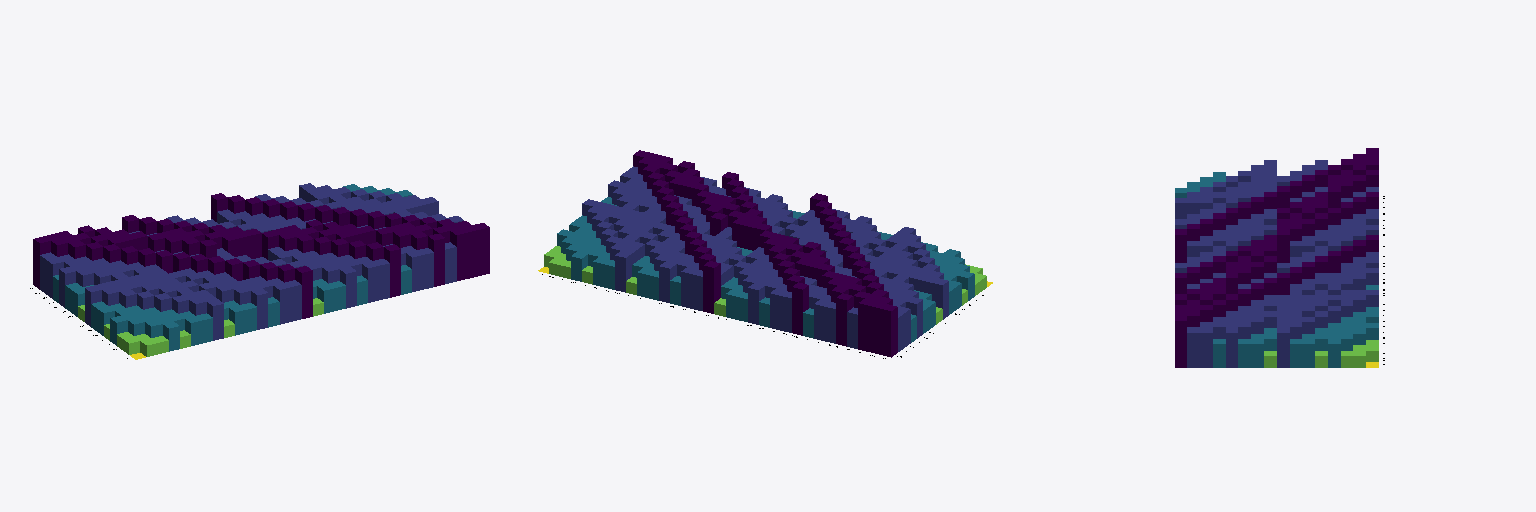
3 views of the same model, side by side, from view 1: azimuth 30°, elevation 25°; view 2: azimuth 150°, elevation 25°; view 3: azimuth 270°, elevation 25° (orthographic).
Visible parts, largest first — view 1: Object(16,16)[length_4], Object(30,16)[length_4], Object(24,16)[length_4], Object(28,16)[length_4], Object(31,16)[length_4], Object(32,16)[length_4], Object(14,16)[length_3]; view 2: Object(1,1)[length_4], Object(17,1)[length_4], Object(9,1)[length_4], Object(5,1)[length_4], Object(25,1)[length_3], Object(3,1)[length_4], Object(2,1)[length_4], Object(21,1)[length_3]; view 3: Object(32,16)[length_4], Object(32,8)[length_3], Object(32,14)[length_3], Object(32,15)[length_3].
Part boxes in pixels (left/top/right/bottom): Object(16,16)[length_4]: left=295, top=266, right=312, bottom=318; Object(30,16)[length_4]: left=450, top=228, right=467, bottom=280; Object(24,16)[length_4]: left=384, top=244, right=400, bottom=297; Object(28,16)[length_4]: left=428, top=234, right=444, bottom=286; Object(31,16)[length_4]: left=462, top=225, right=478, bottom=278; Object(32,16)[length_4]: left=473, top=223, right=489, bottom=275; Object(14,16)[length_3]: left=273, top=283, right=290, bottom=324; Object(1,1)[length_4]: left=880, top=304, right=897, bottom=357; Object(17,1)[length_4]: left=703, top=261, right=720, bottom=313; Object(9,1)[length_4]: left=792, top=282, right=808, bottom=335; Object(5,1)[length_4]: left=836, top=293, right=853, bottom=346; Object(25,1)[length_3]: left=615, top=251, right=631, bottom=292; Object(3,1)[length_4]: left=858, top=299, right=874, bottom=351; Object(2,1)[length_4]: left=869, top=301, right=885, bottom=354; Object(21,1)[length_3]: left=659, top=262, right=676, bottom=302; Object(32,16)[length_4]: left=1175, top=316, right=1186, bottom=367; Object(32,8)[length_3]: left=1277, top=327, right=1289, bottom=367; Object(32,14)[length_3]: left=1200, top=327, right=1212, bottom=367; Object(32,15)[length_3]: left=1187, top=327, right=1199, bottom=367.
Bounding box in the file's own units: 32.73 × 4 × 16.5.